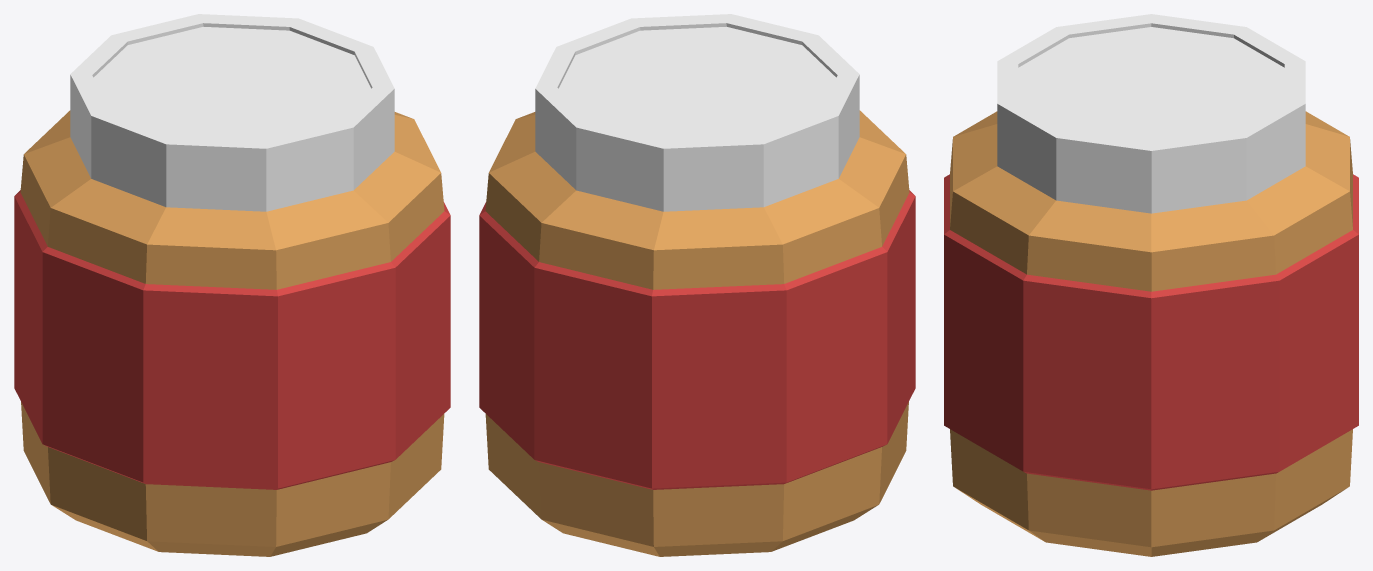
Rendered from Jar_Large.obj.
3 views of the same model, side by side, from view 1: azimuth 30°, elevation 25°; view 2: azimuth 150°, elevation 25°; view 3: azimuth 270°, elevation 25° (orthographic).
Parts seen in each view (by area): view 1: Jar_Large_PaleRed, Jar_Large_LightYellow, Jar_Large_White; view 2: Jar_Large_PaleRed, Jar_Large_LightYellow, Jar_Large_White; view 3: Jar_Large_PaleRed, Jar_Large_LightYellow, Jar_Large_White.
Boxes of the visible parts, left/top/right/bottom form: Jar_Large_PaleRed: left=14, top=190, right=450, bottom=489; Jar_Large_LightYellow: left=20, top=110, right=444, bottom=556; Jar_Large_White: left=70, top=14, right=394, bottom=211; Jar_Large_PaleRed: left=479, top=190, right=915, bottom=489; Jar_Large_LightYellow: left=485, top=110, right=909, bottom=556; Jar_Large_White: left=535, top=14, right=859, bottom=211; Jar_Large_PaleRed: left=944, top=174, right=1358, bottom=490; Jar_Large_LightYellow: left=950, top=111, right=1352, bottom=556; Jar_Large_White: left=997, top=14, right=1305, bottom=213.
Size of the model in its own units: 0.6332 by 0.6384 by 0.6022.
